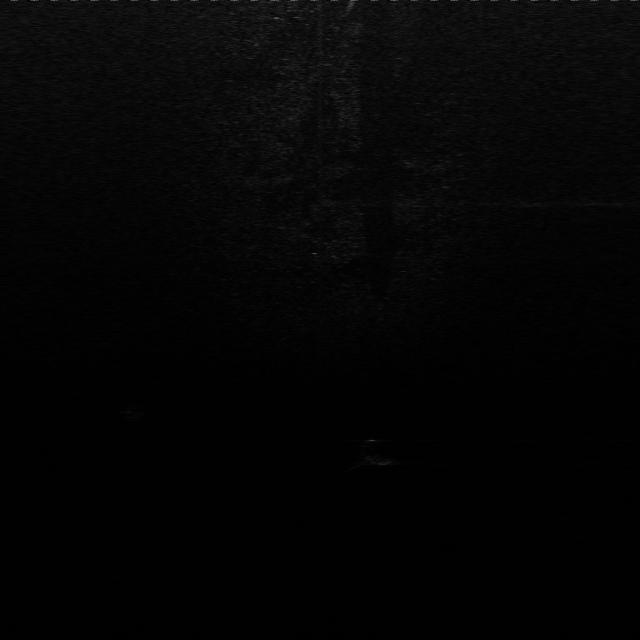tyre: (352, 431, 401, 468)
